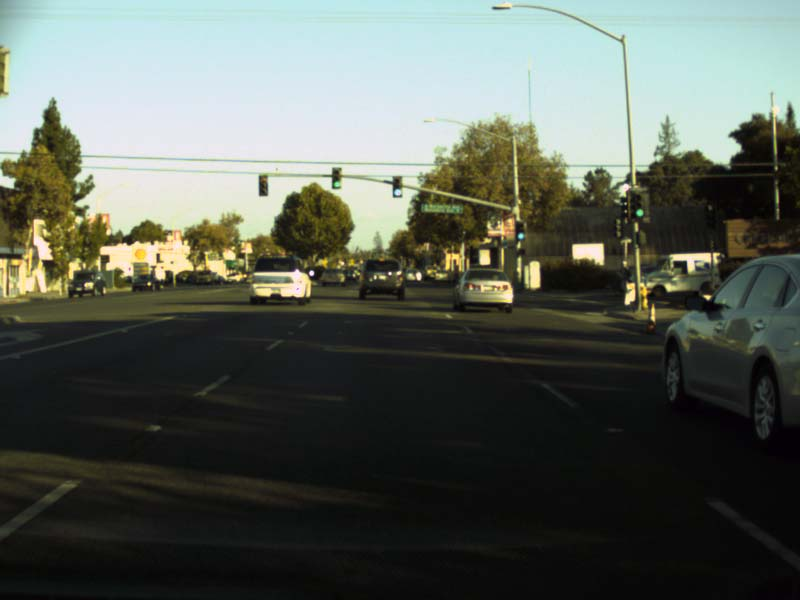Green: (629, 188, 649, 222), (393, 176, 402, 196), (332, 167, 340, 188), (516, 222, 525, 240)
Red: (259, 175, 267, 195)
